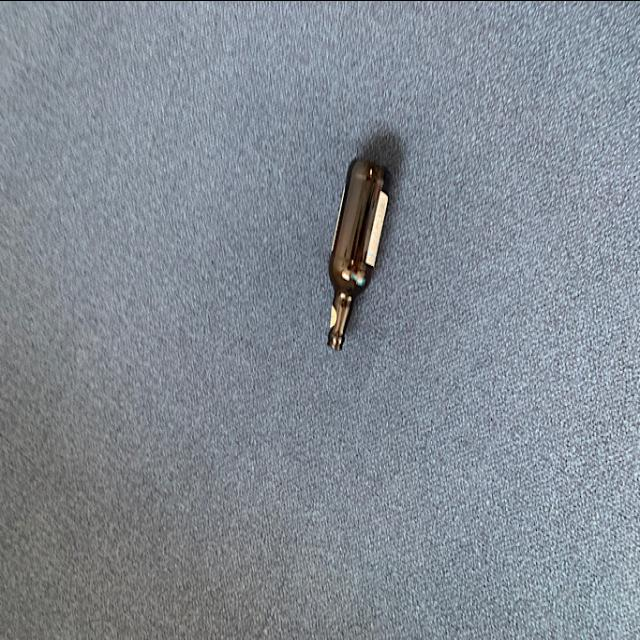Glass Bottle: (320, 158, 400, 352)
